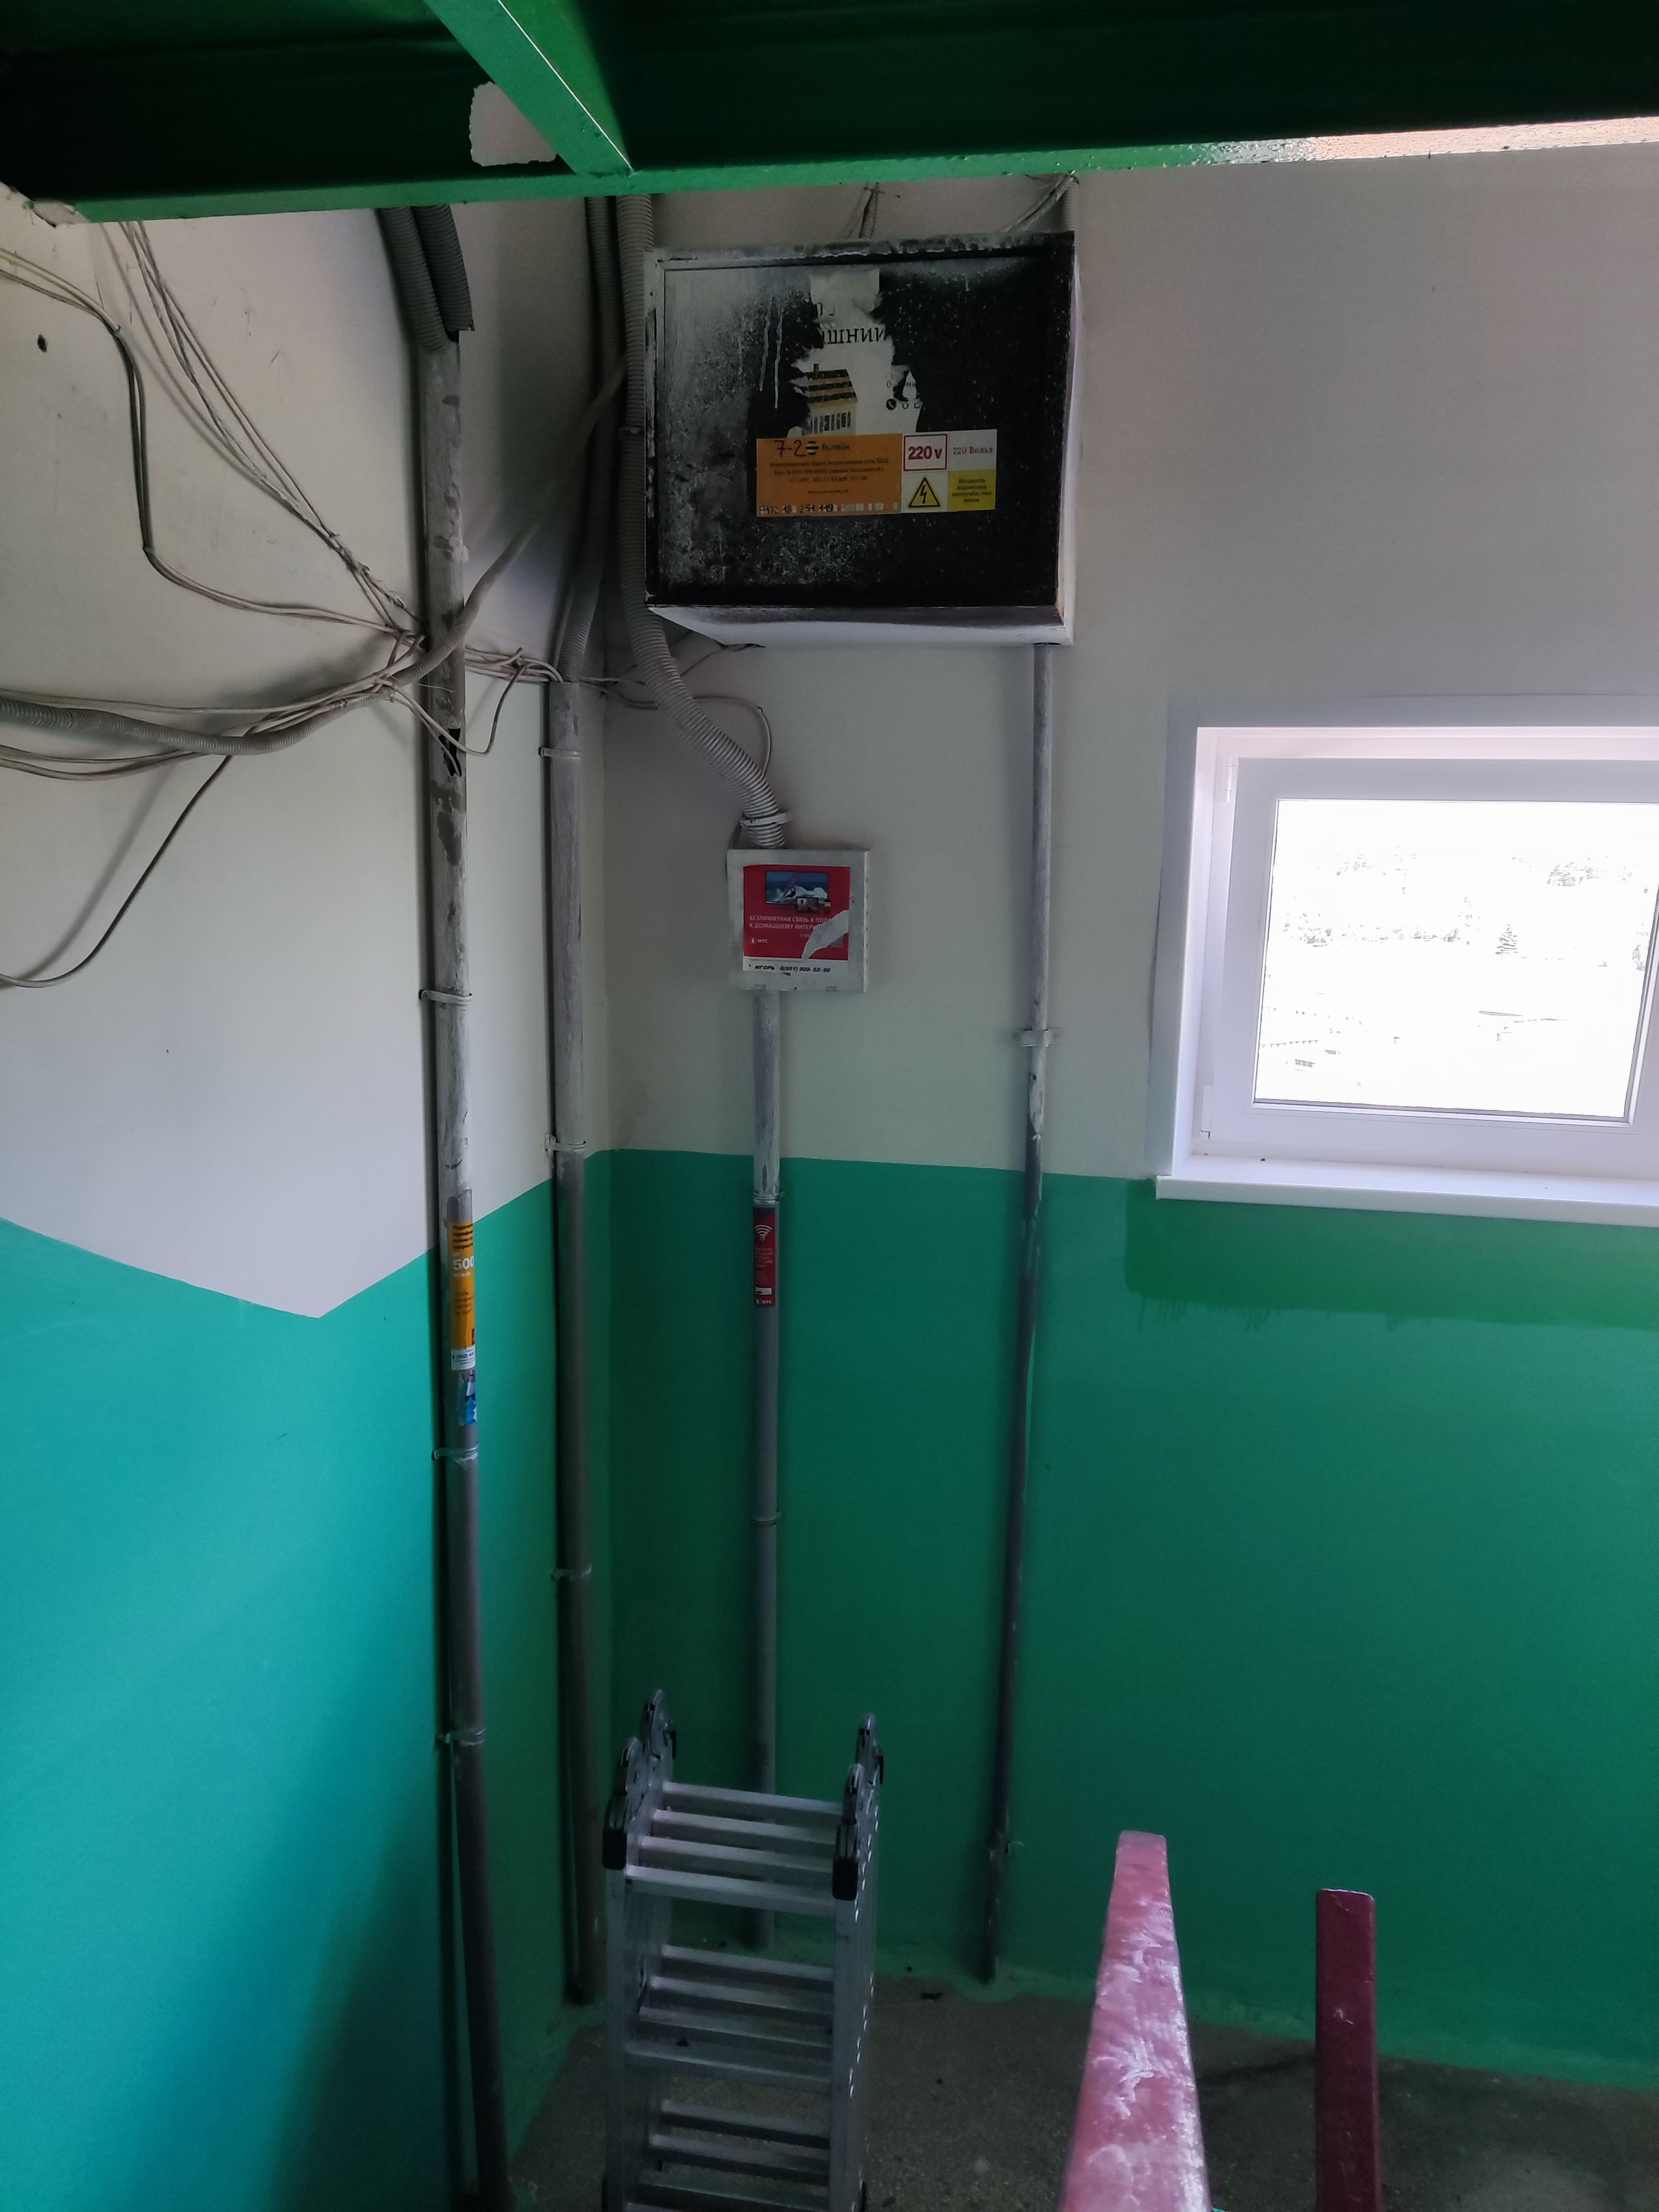shta-9m: (627, 233, 1100, 655)
